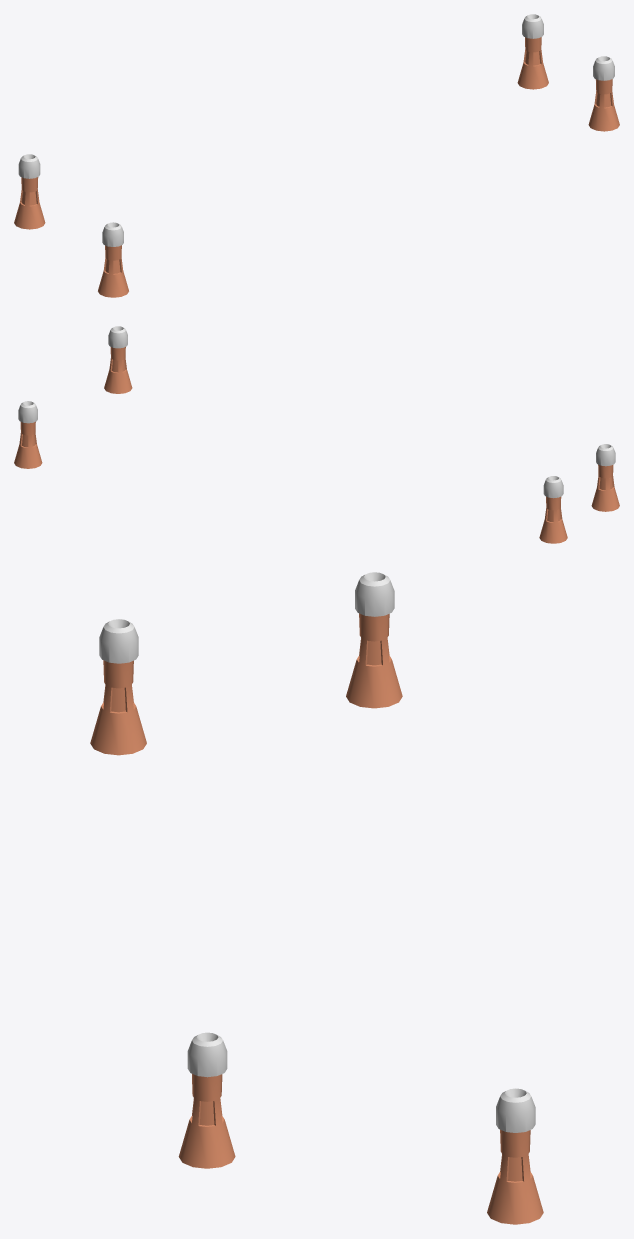
File: filar.fbx
The picture shows the model from 3 angles, top to bottom: view 1: azimuth 30°, elevation 25°; view 2: azimuth 150°, elevation 25°; view 3: azimuth 270°, elevation 25°; orthographic projection. The views are drawn at different scales.
Parts seen in each view (by area): view 1: F_lampion, F_lampion.002, F_lampion.003, F_lampion.001; view 2: F_lampion, F_lampion.003, F_lampion.001, F_lampion.002; view 3: F_lampion.002, F_lampion, F_lampion.003, F_lampion.001.
Part boxes in pixels (x1,y1,x2,y2): F_lampion: (14, 154, 45, 229); F_lampion.002: (588, 56, 619, 131); F_lampion.003: (517, 14, 548, 89); F_lampion.001: (98, 222, 128, 297); F_lampion: (539, 476, 567, 543); F_lampion.003: (14, 401, 42, 468); F_lampion.001: (591, 444, 619, 511); F_lampion.002: (104, 326, 132, 393); F_lampion.002: (178, 1032, 235, 1168); F_lampion: (346, 572, 402, 708); F_lampion.003: (487, 1088, 543, 1224); F_lampion.001: (90, 619, 146, 755).
Bounding box in the file's own units: 4181 × 632 × 1595.
